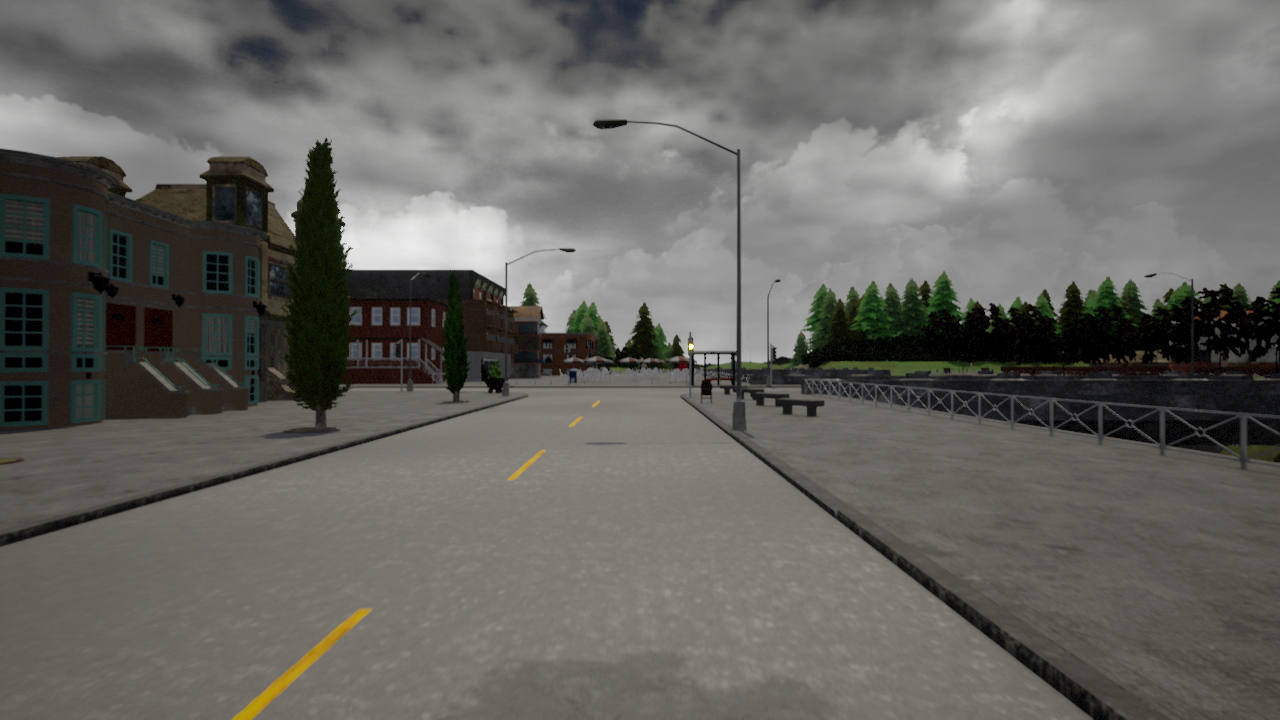yellow: (687, 336, 696, 355)
